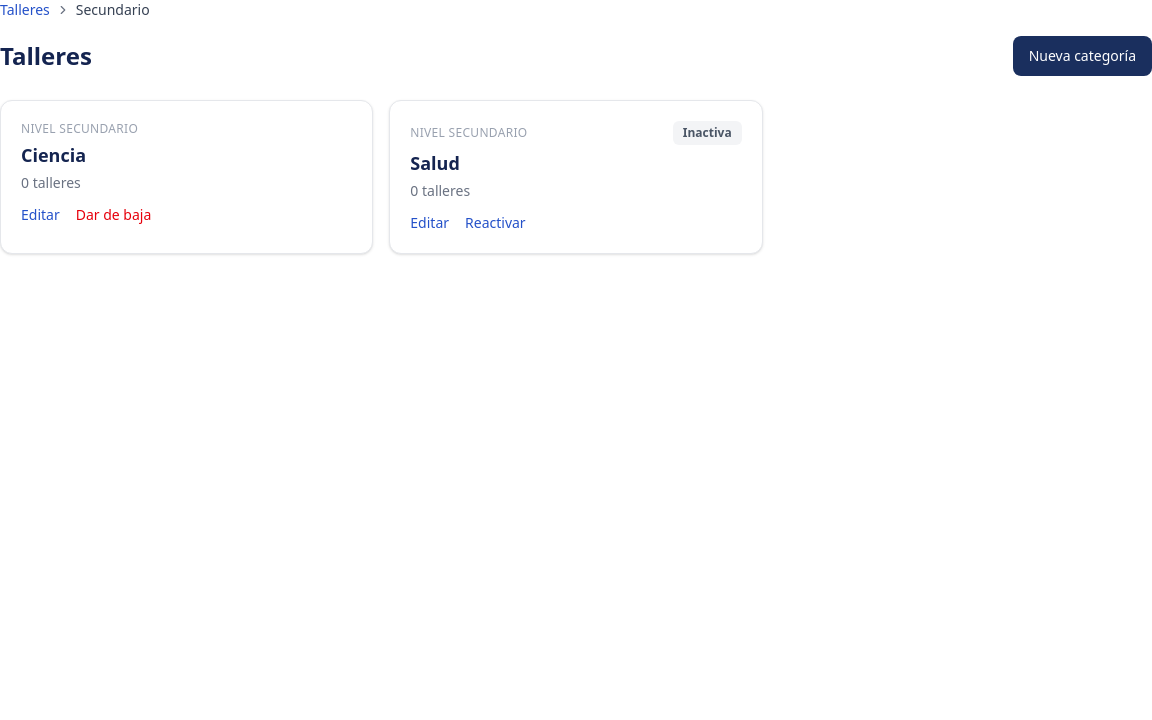
Test: CategoriasPage: talleres de cada categoría › si la baja falla con DA001 muestra cuántos talleres en borrador o publicados tiene
The width and height of the screenshot is (1152, 720).
Expected: the link "Ciencia" is shown, [21,143,86,167]
Click the button "Dar de baja".
click(114, 215)  # box [76,205,151,225]
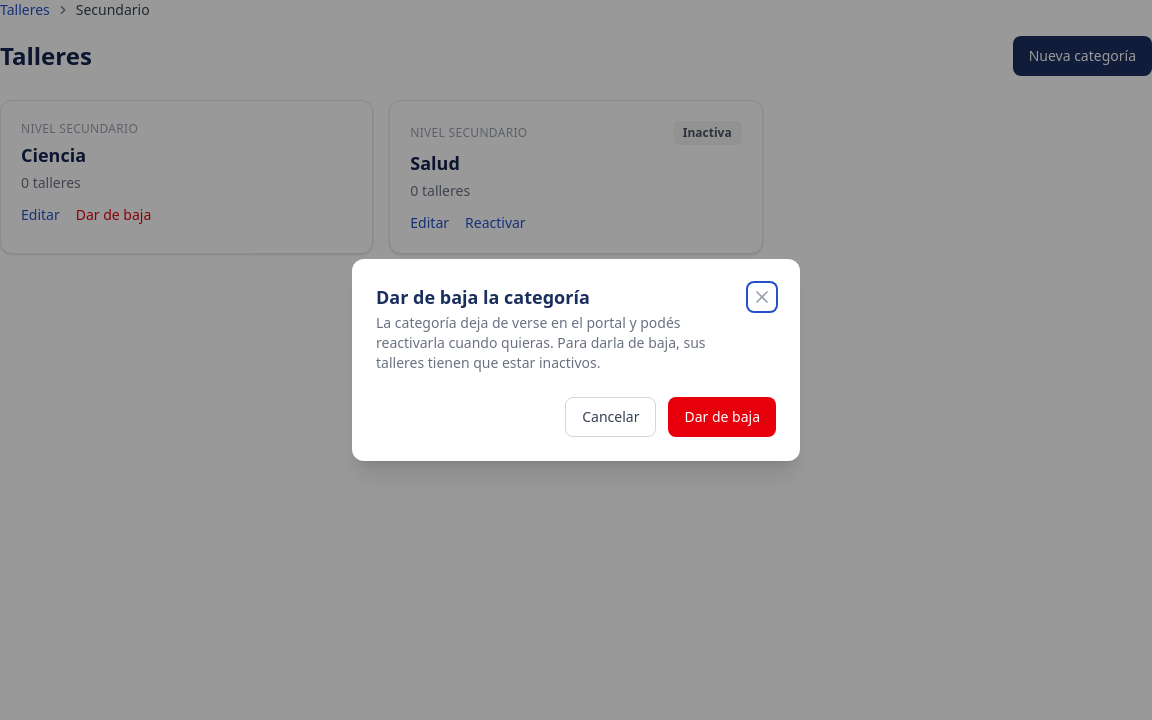
Click the button "Dar de baja".
click(722, 417)  # box [668,397,776,437]
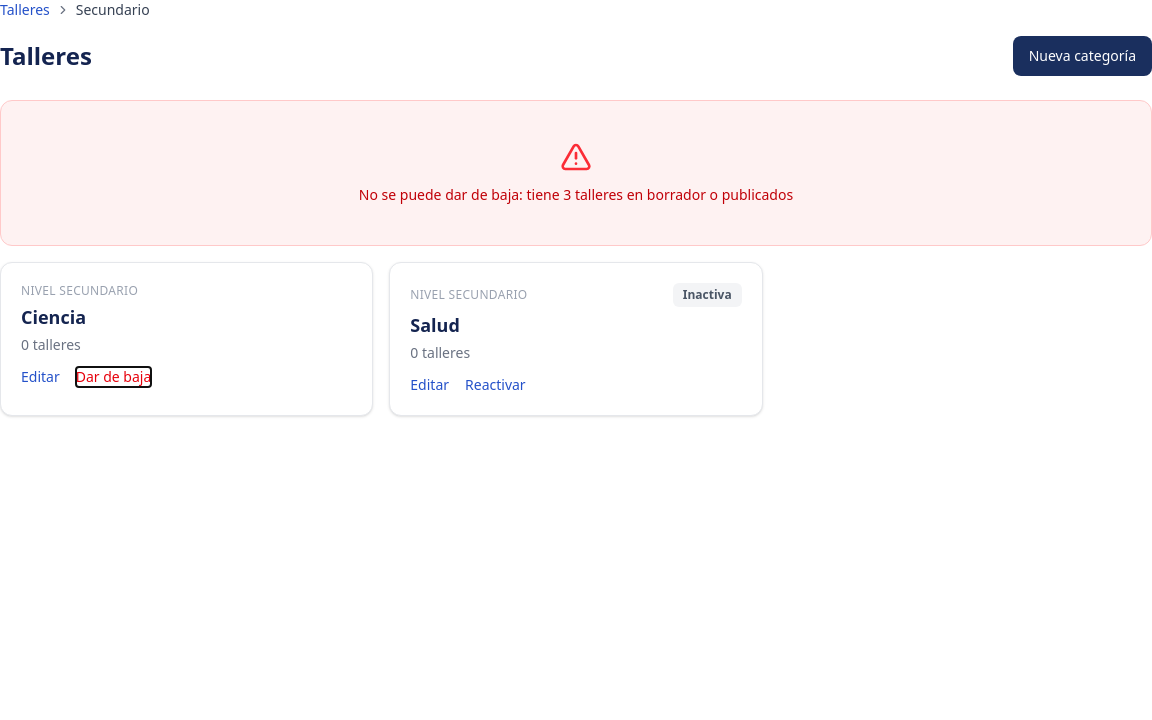
Expected: the message reads "No se puede dar de baja: tiene 3 talleres en borrador o publicados", [359,185,793,204]
